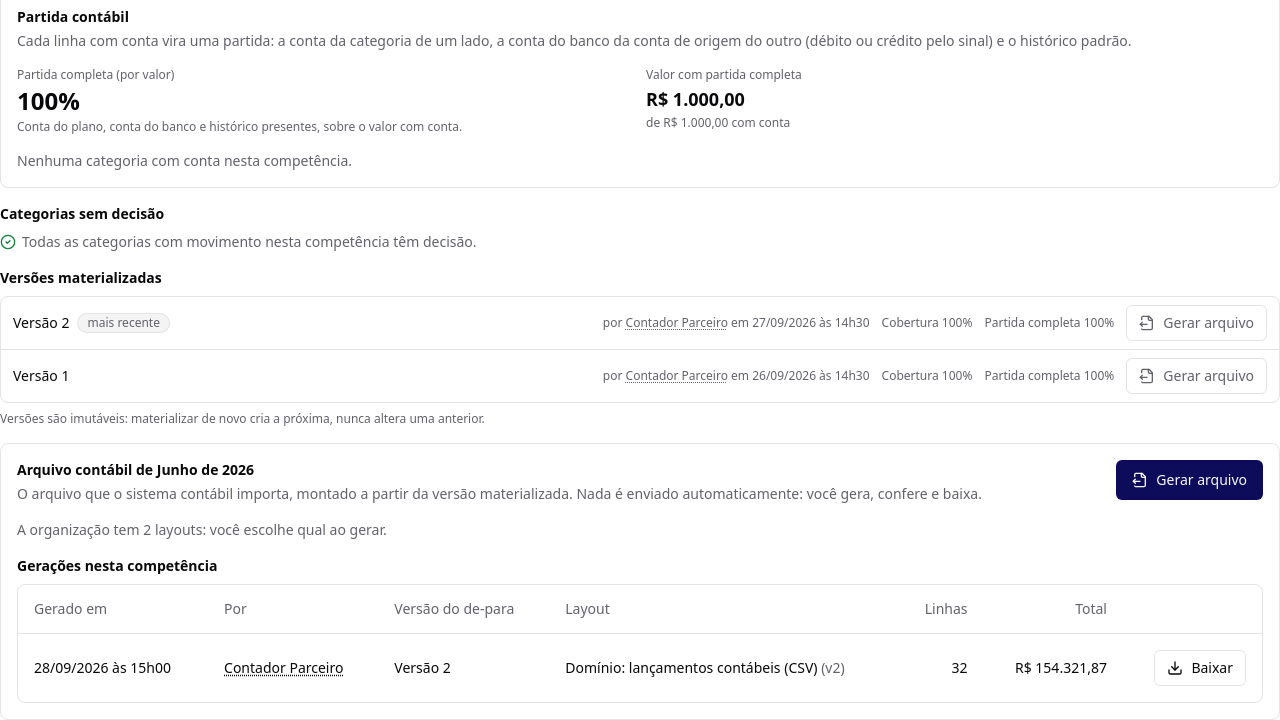
Test: gerar — escolha do layout › reabrir o diálogo não traz o layout escolhido na geração anterior
(page scrolled)
Click the button "Gerar arquivo" in the row of "Arquivo contábil de": point(1190, 480) [1116,460,1263,500]
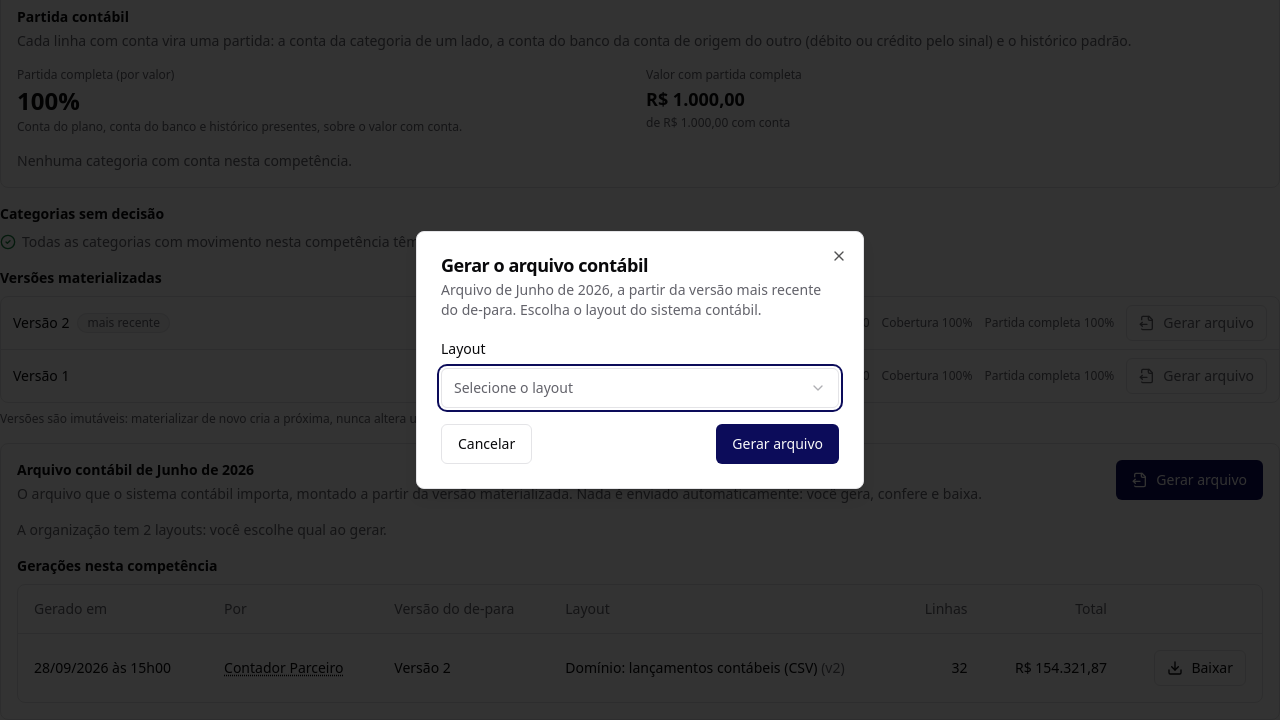
Click the dropdown named "Layout do arquivo": point(513, 388) [441,368,839,408]
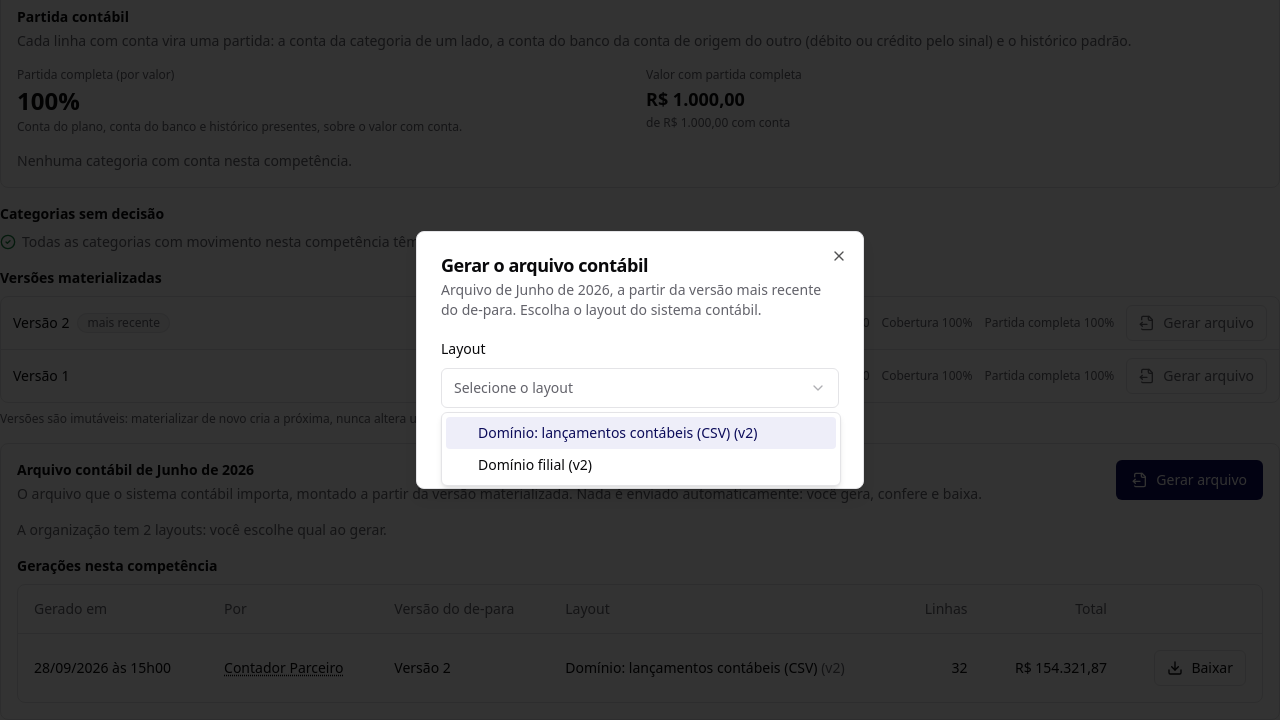
Click the option "Domínio filial (v2)": point(535, 464) [478,455,592,474]
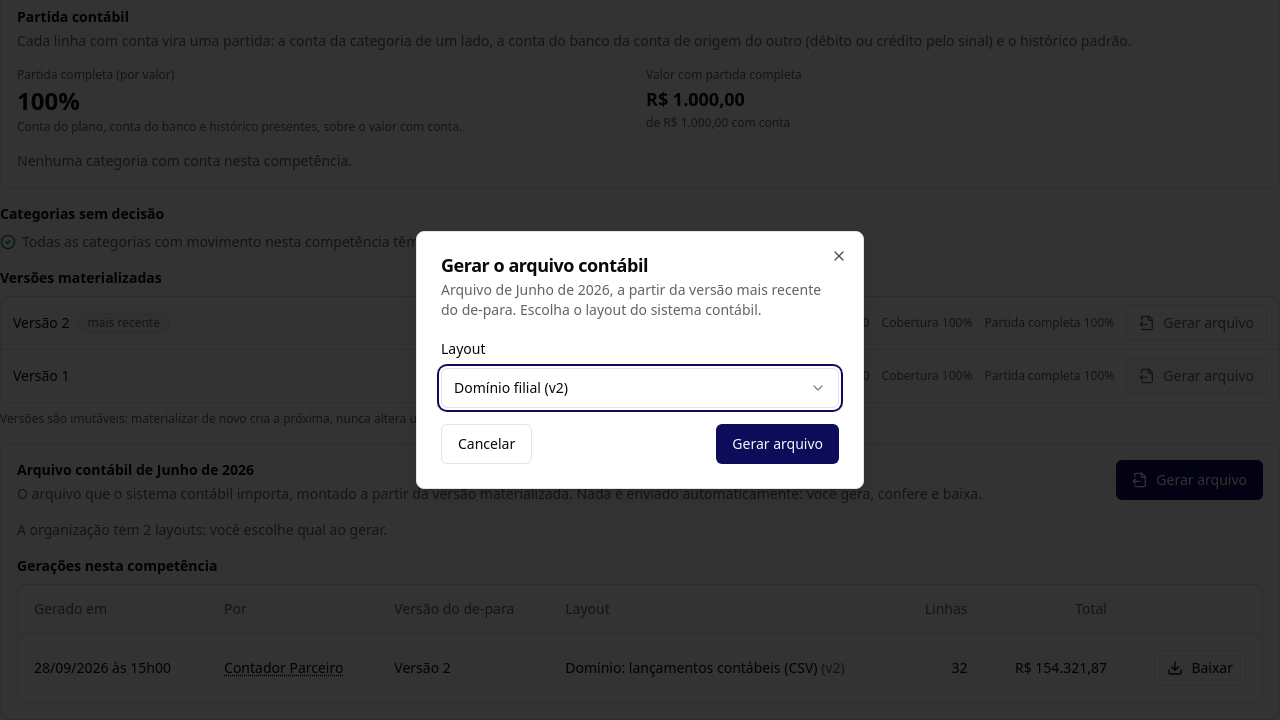
Click the button "Gerar arquivo": point(778, 444) [716,424,839,464]
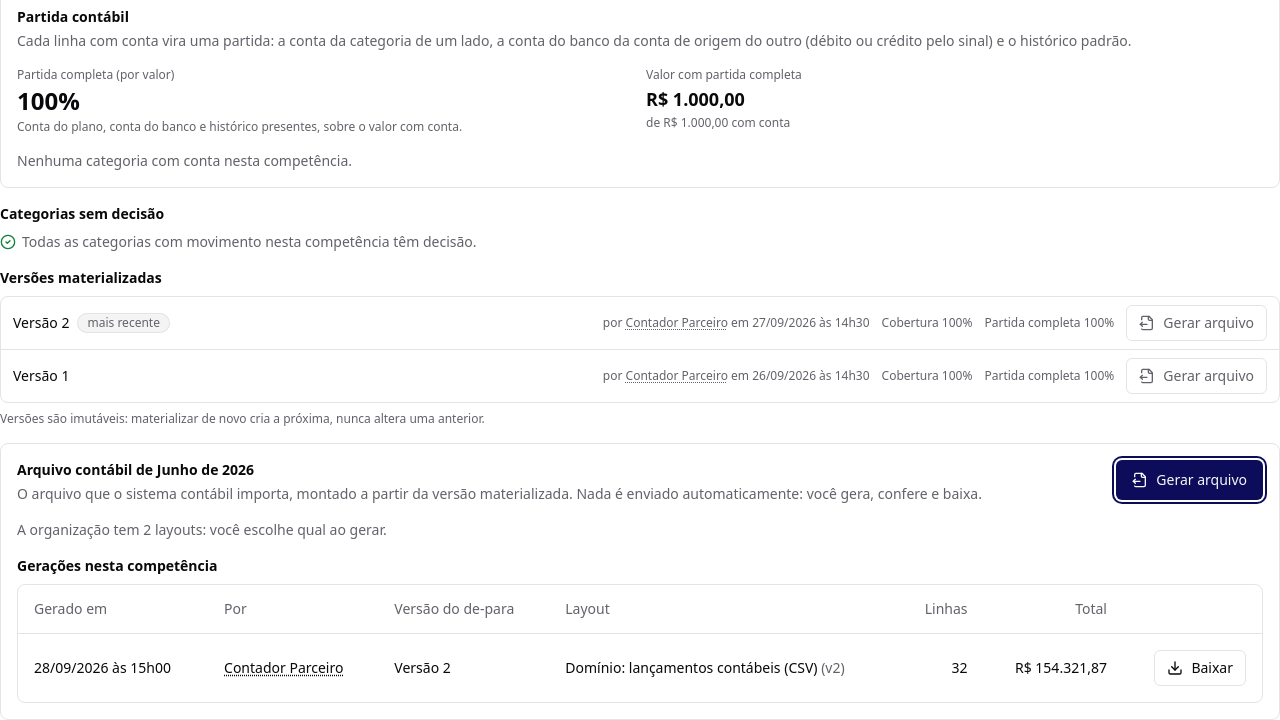
Expected: the dialog is gone
Click the button with aria-label "Gerar arquivo da versão 1": point(1197, 376) [1126,358,1267,394]
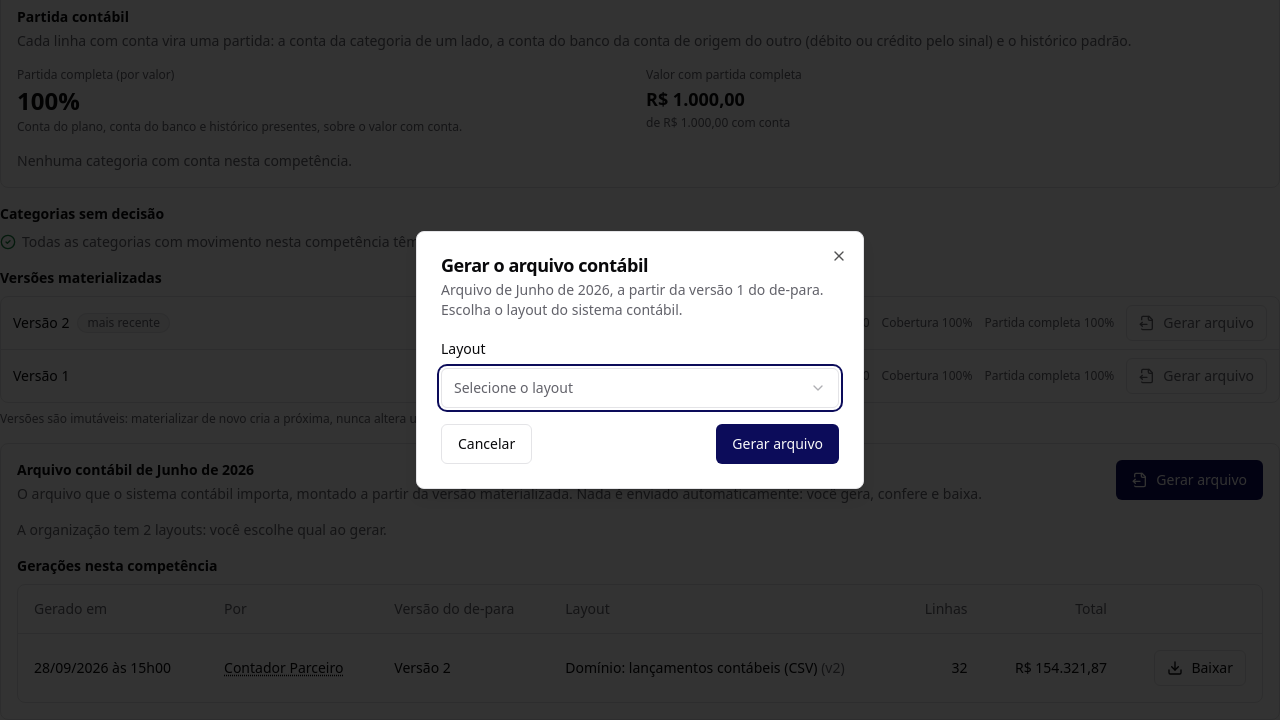
Expected: the dropdown named "Layout do arquivo" reads "Selecione o layout", [441,368,839,408]
Click the button "Gerar arquivo": point(778, 444) [716,424,839,464]
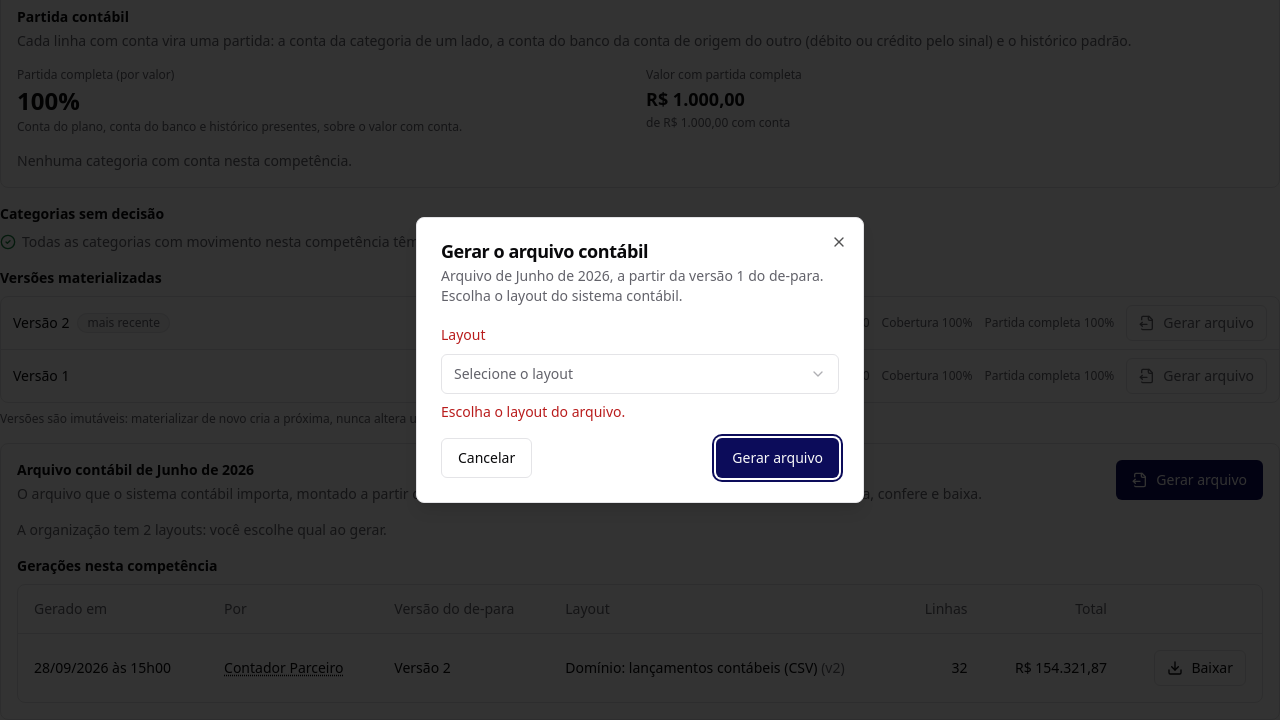
Expected: the text "Escolha o layout do arquivo." is shown, [441,402,625,421]
